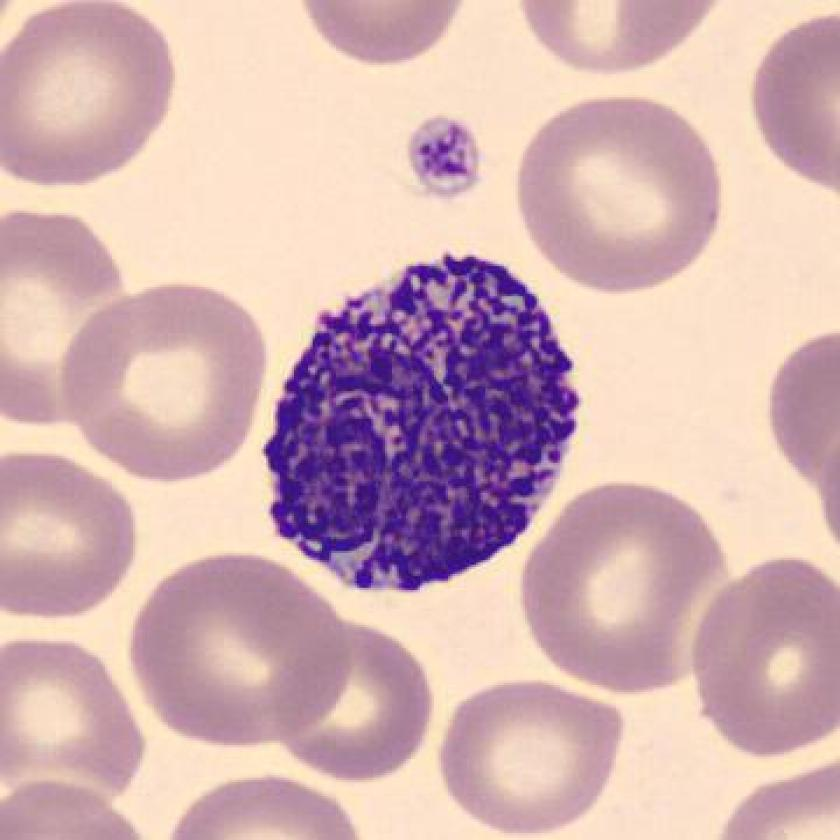basophil: (260, 244, 591, 591)
